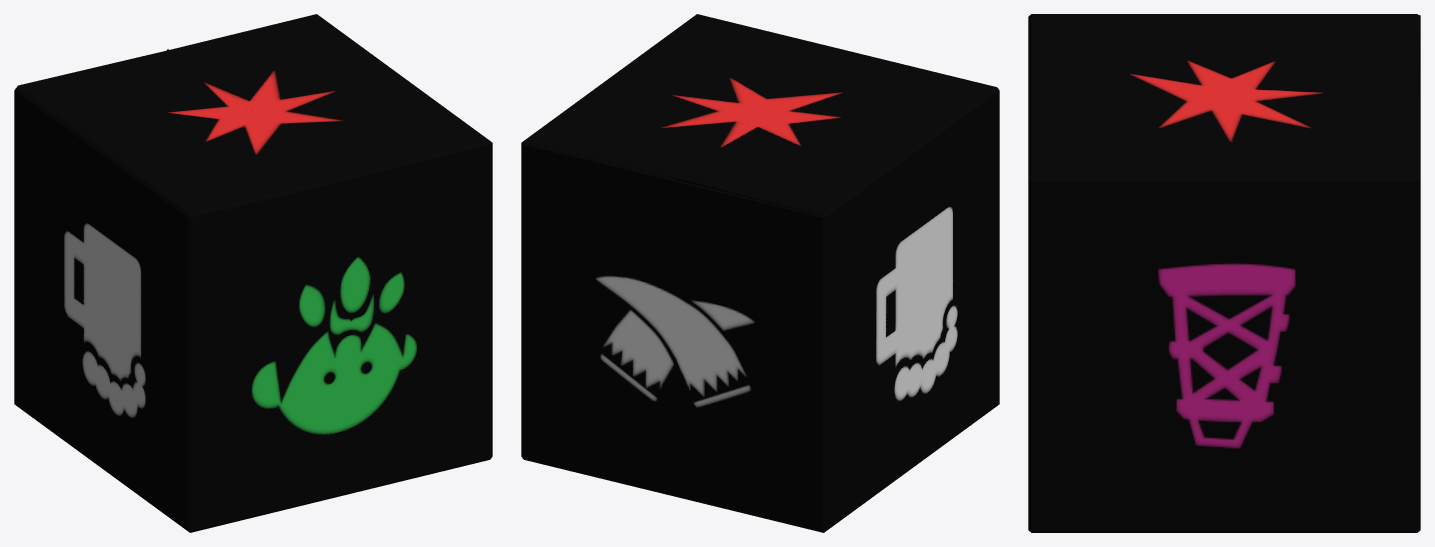
The model's file is dice.glb.
3 views of the same model, side by side, from view 1: azimuth 30°, elevation 25°; view 2: azimuth 150°, elevation 25°; view 3: azimuth 270°, elevation 25° (orthographic). The views are drawn at different scales.
Parts seen in each view (by area): view 1: origin, Dice_cell.019, Dice_cell.022, Dice_cell.008, Dice_cell.023, Dice_cell.007, Dice_cell.014, Dice_cell.015, Dice_cell.020, Dice_cell.010, Dice_cell.001, Dice_cell.018 (+1 smaller); view 2: origin, Dice_cell, Dice_cell.004, Dice_cell.016, Dice_cell.012, Dice_cell.015, Dice_cell.018, Dice_cell.023, Dice_cell.014, Dice_cell.013, Dice_cell.020, Dice_cell.007 (+1 smaller); view 3: origin, Dice_cell.006, Dice_cell.002, Dice_cell.005, Dice_cell.001, Dice_cell.007, Dice_cell.020, Dice_cell.014, Dice_cell.009, Dice_cell, Dice_cell.008.
Boxes of the visible parts, box(x1,y1,x2,y2) form: origin: box(14, 15, 491, 531); Dice_cell.019: box(189, 179, 341, 374); Dice_cell.022: box(189, 338, 341, 531); Dice_cell.008: box(341, 143, 491, 337); Dice_cell.023: box(101, 311, 189, 531); Dice_cell.007: box(256, 77, 490, 178); Dice_cell.014: box(17, 49, 252, 148); Dice_cell.015: box(14, 247, 100, 466); Dice_cell.020: box(103, 114, 340, 215); Dice_cell.010: box(341, 301, 491, 495); Dice_cell.001: box(167, 14, 402, 104); Dice_cell.018: box(101, 152, 189, 373); origin: box(521, 14, 999, 532); Dice_cell: box(522, 142, 672, 337); Dice_cell.004: box(522, 301, 672, 495); Dice_cell.016: box(672, 338, 824, 531); Dice_cell.012: box(672, 179, 824, 374); Dice_cell.015: box(824, 311, 912, 531); Dice_cell.018: box(912, 89, 999, 310); Dice_cell.023: box(913, 247, 999, 467); Dice_cell.014: box(670, 114, 905, 215); Dice_cell.013: box(824, 152, 912, 373); Dice_cell.020: box(762, 50, 997, 151); Dice_cell.007: box(655, 14, 846, 113); origin: box(1028, 14, 1420, 532); Dice_cell.006: box(1030, 179, 1224, 356); Dice_cell.002: box(1224, 179, 1418, 356); Dice_cell.005: box(1224, 356, 1418, 532); Dice_cell.001: box(1224, 95, 1418, 179); Dice_cell.007: box(1030, 95, 1224, 179); Dice_cell.020: box(1030, 14, 1224, 96); Dice_cell.014: box(1224, 15, 1420, 96); Dice_cell.009: box(1030, 356, 1224, 531); Dice_cell: box(1419, 97, 1420, 355); Dice_cell.008: box(1028, 97, 1029, 355).
Size of the model in its own units: 2 by 2 by 2.
1 material, 1 textured.
